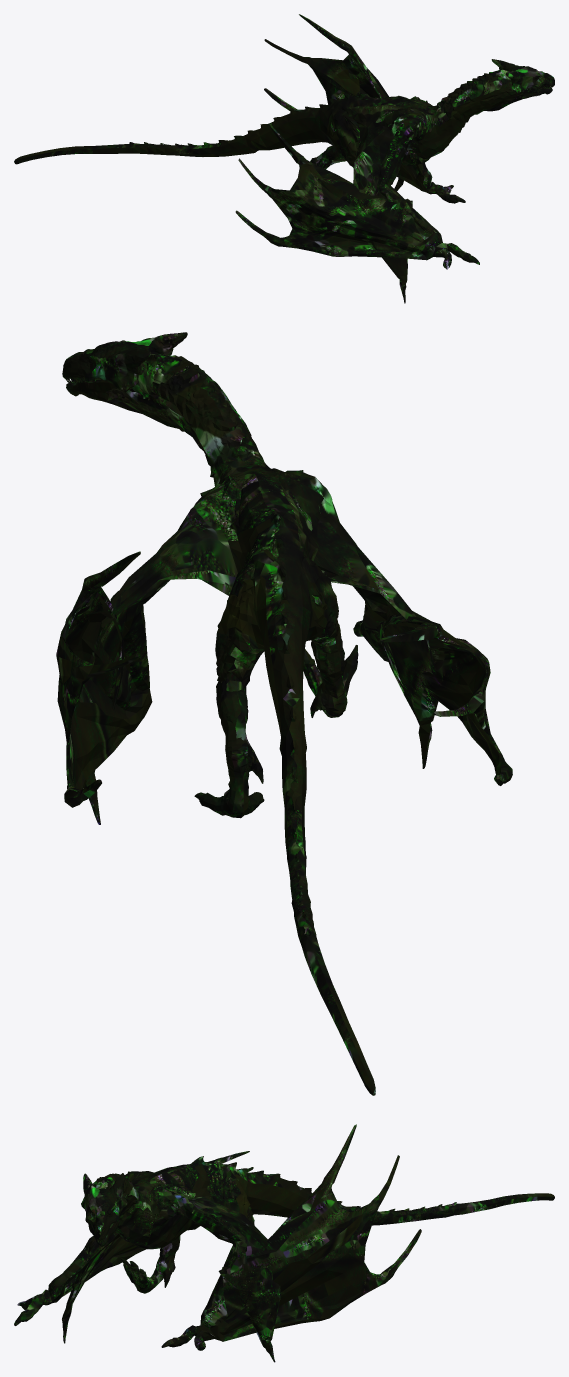
File: frame_0019_uv.obj
3 views of the same model, one above another, from view 1: azimuth 30°, elevation 25°; view 2: azimuth 150°, elevation 25°; view 3: azimuth 270°, elevation 25° (orthographic). The views are drawn at different scales.
Visible parts, largest first — view 1: pMesh1; view 2: pMesh1; view 3: pMesh1.
Part boxes in pixels (x1,y1,x2,y2): pMesh1: (14,14,554,303); pMesh1: (56,332,512,1095); pMesh1: (14,1124,554,1362).
Bounding box in the file's own units: 1.54 × 0.8438 × 1.76.
